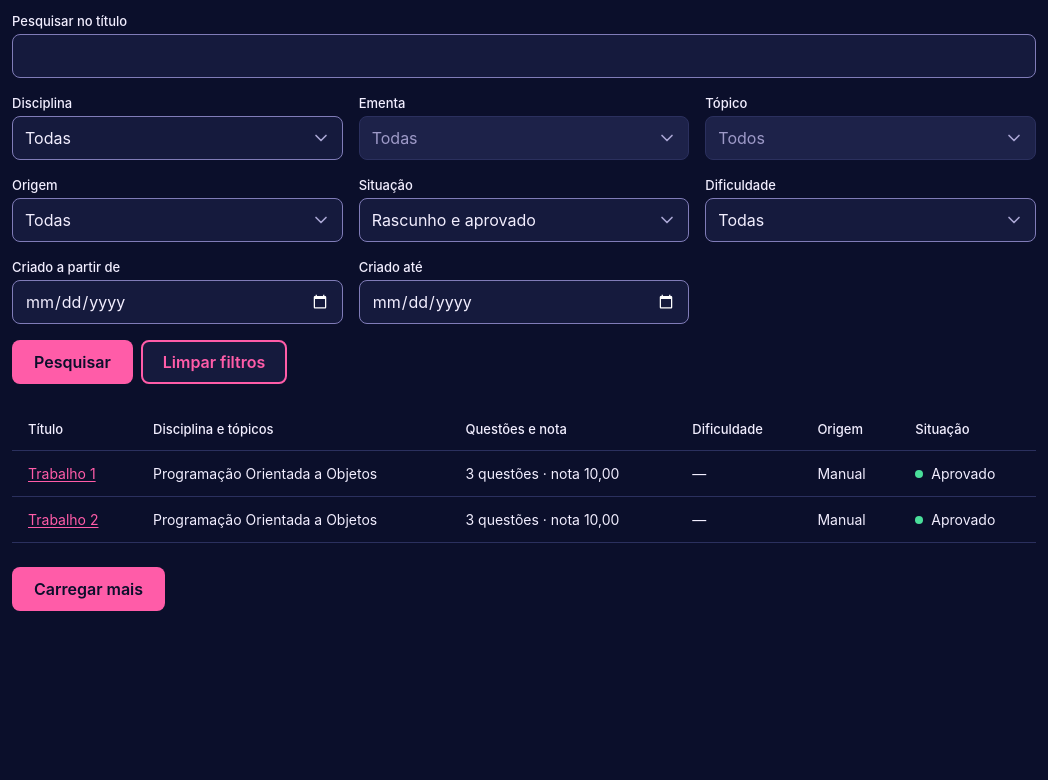
Test case: 011/US7 WorkBankList — consultar o Banco de Trabalhos › "Carregar mais" pede a página seguinte pelo cursor e acrescenta à lista
Click the button "Carregar mais".
click(89, 589)  # box [12,567,165,611]
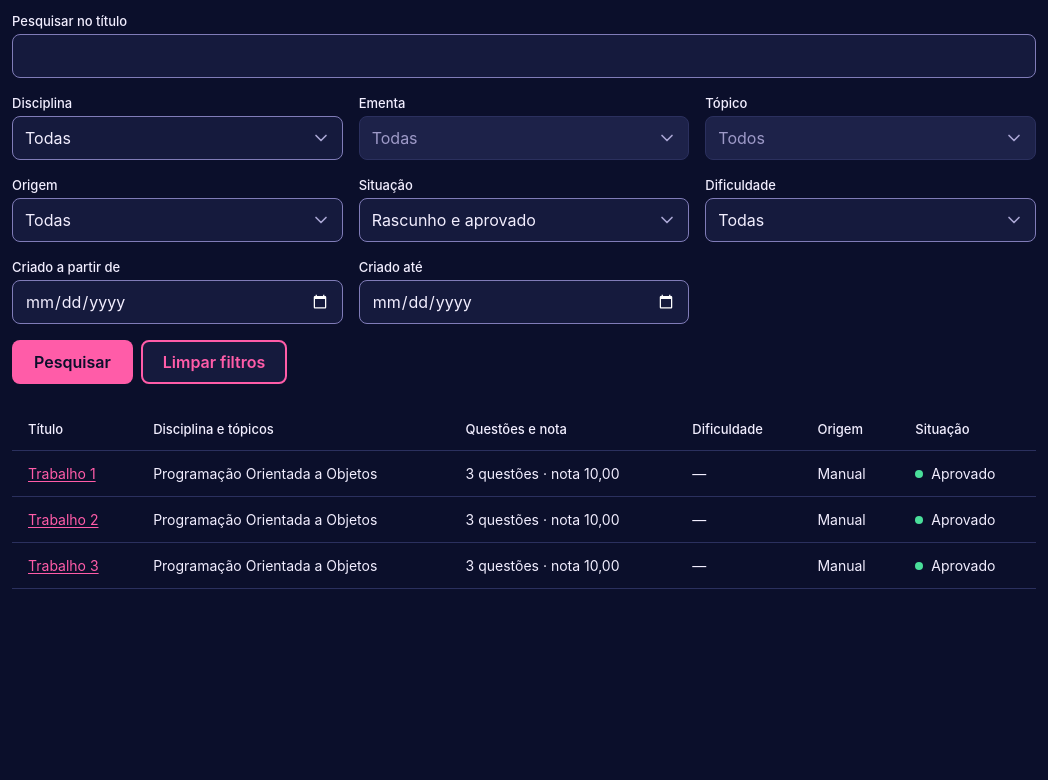
Expected: the link "Trabalho 3" is shown, [28,556,99,574]
Expected: the number of links is 3, [28,464,96,482]; [28,510,98,528]; [28,556,99,574]
Expected: the button "Carregar mais" is gone
